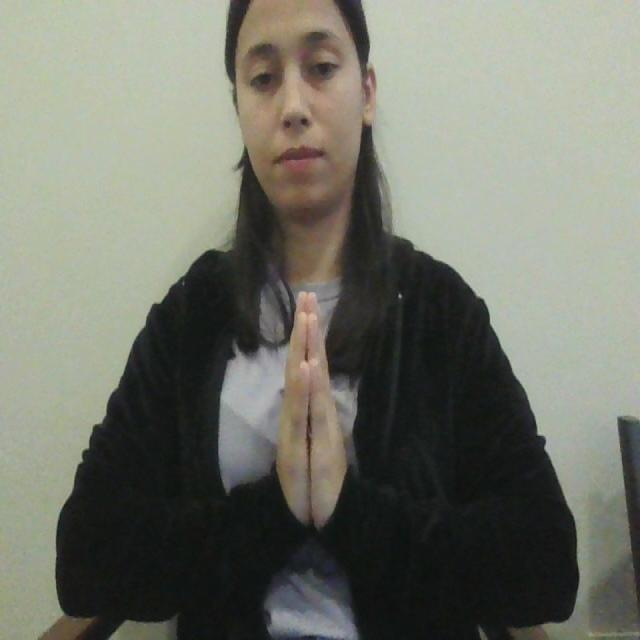Ozur-Dilemek: (264, 282, 360, 565)
